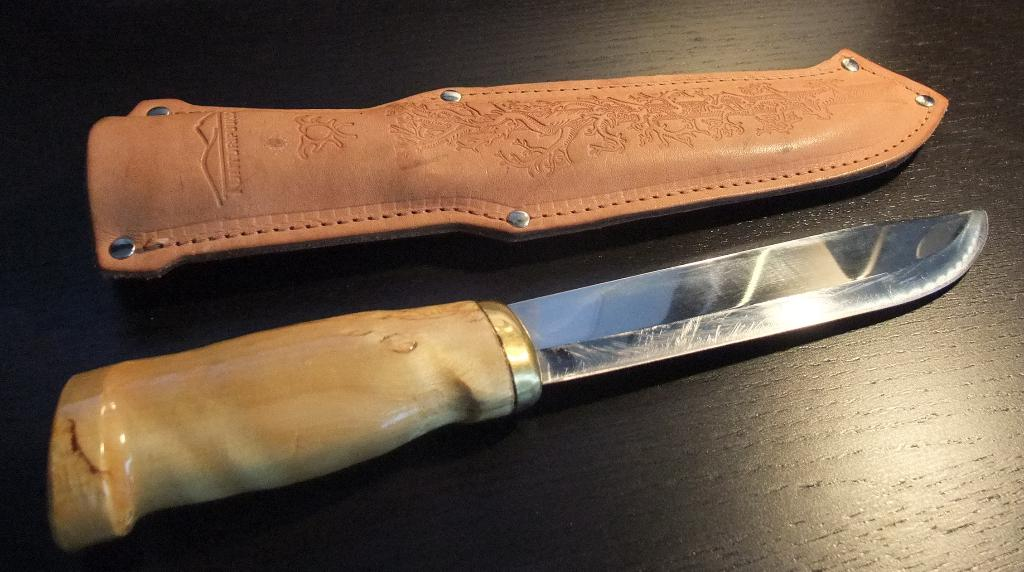knife: (46, 209, 988, 554)
